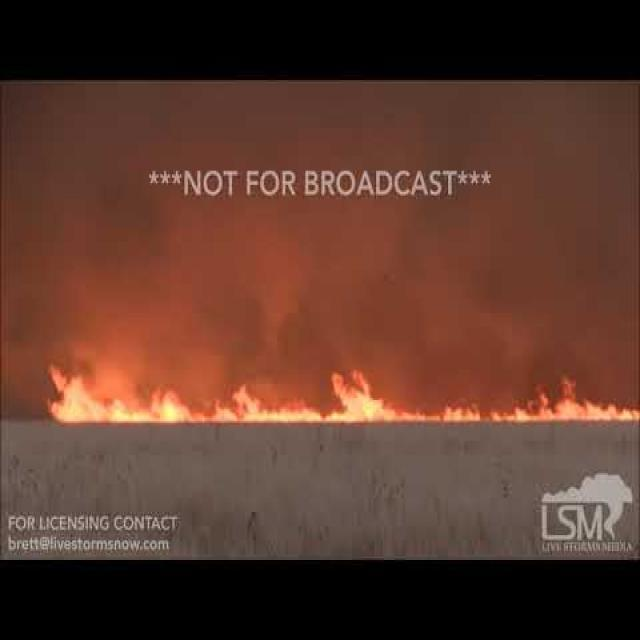Fire: (41, 356, 640, 426)
